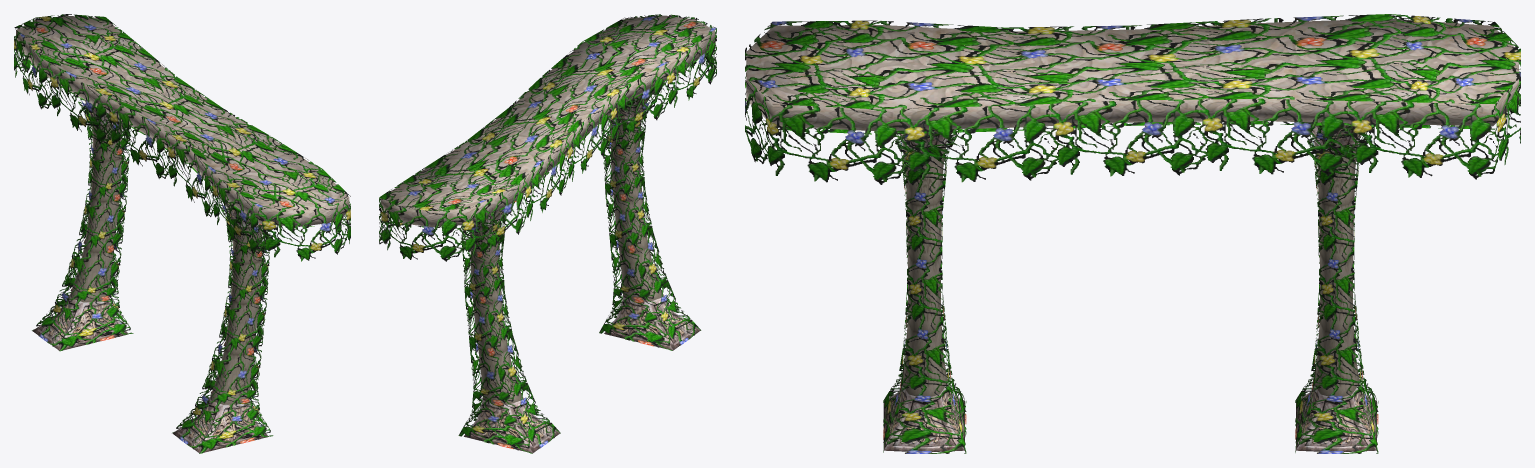
Rendered from EKH_THRONE_PS_TH_PILLARS848475__GX.fbx.
3 views of the same model, side by side, from view 1: azimuth 30°, elevation 25°; view 2: azimuth 150°, elevation 25°; view 3: azimuth 270°, elevation 25° (orthographic). The views are drawn at different scales.
Visible parts, largest first — view 1: EKH_THRONE_PS_TH_PILLARS848475__GX; view 2: EKH_THRONE_PS_TH_PILLARS848475__GX; view 3: EKH_THRONE_PS_TH_PILLARS848475__GX.
Boxes of the visible parts, x1,y1,x2,y2 form: EKH_THRONE_PS_TH_PILLARS848475__GX: [14, 14, 350, 453]; EKH_THRONE_PS_TH_PILLARS848475__GX: [379, 14, 716, 453]; EKH_THRONE_PS_TH_PILLARS848475__GX: [745, 14, 1520, 453].
Bounding box in the file's own units: 34318 × 72882 × 129686.
8 materials, 8 textured.
